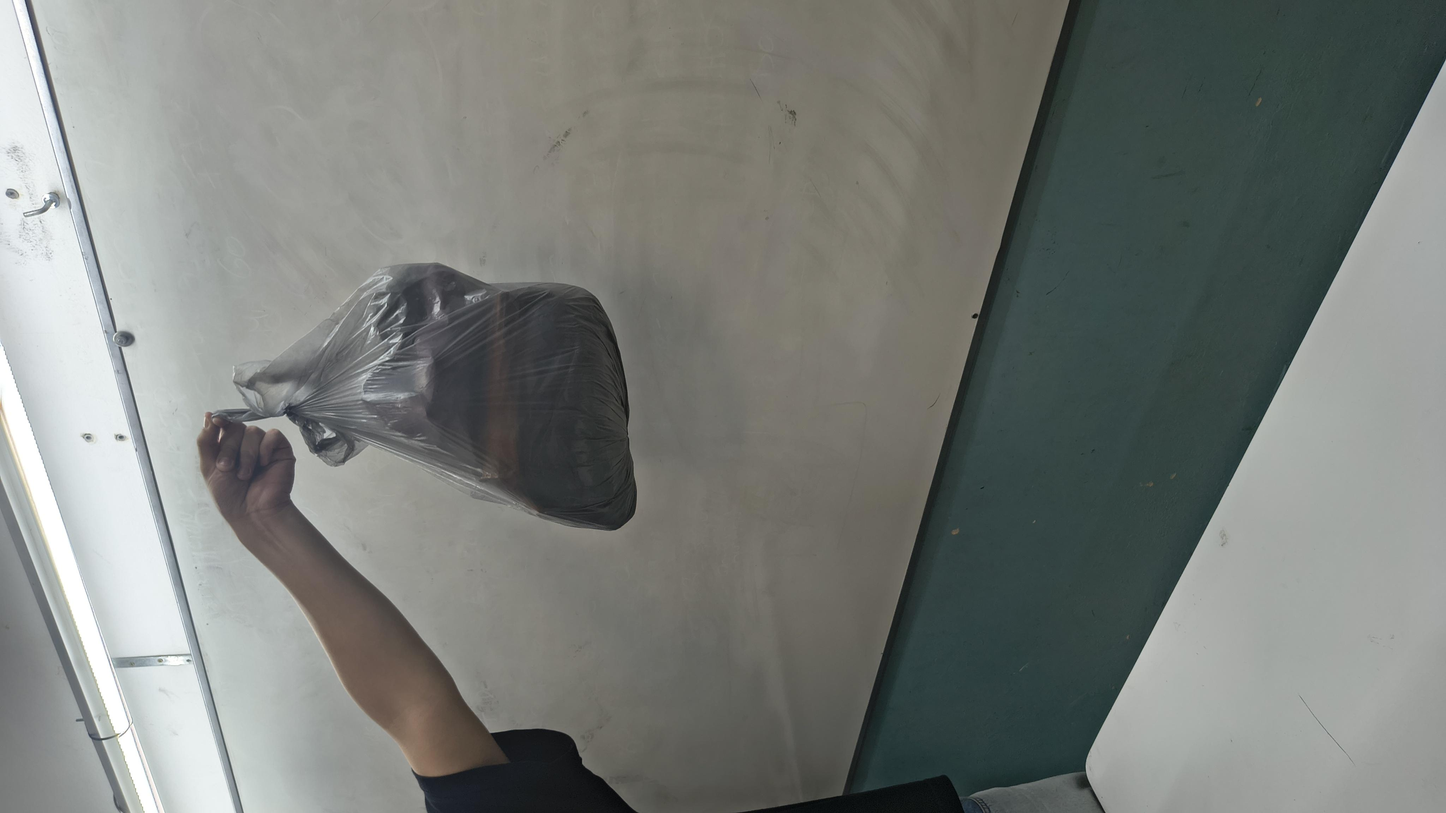Garbage: (458, 111, 1073, 375)
